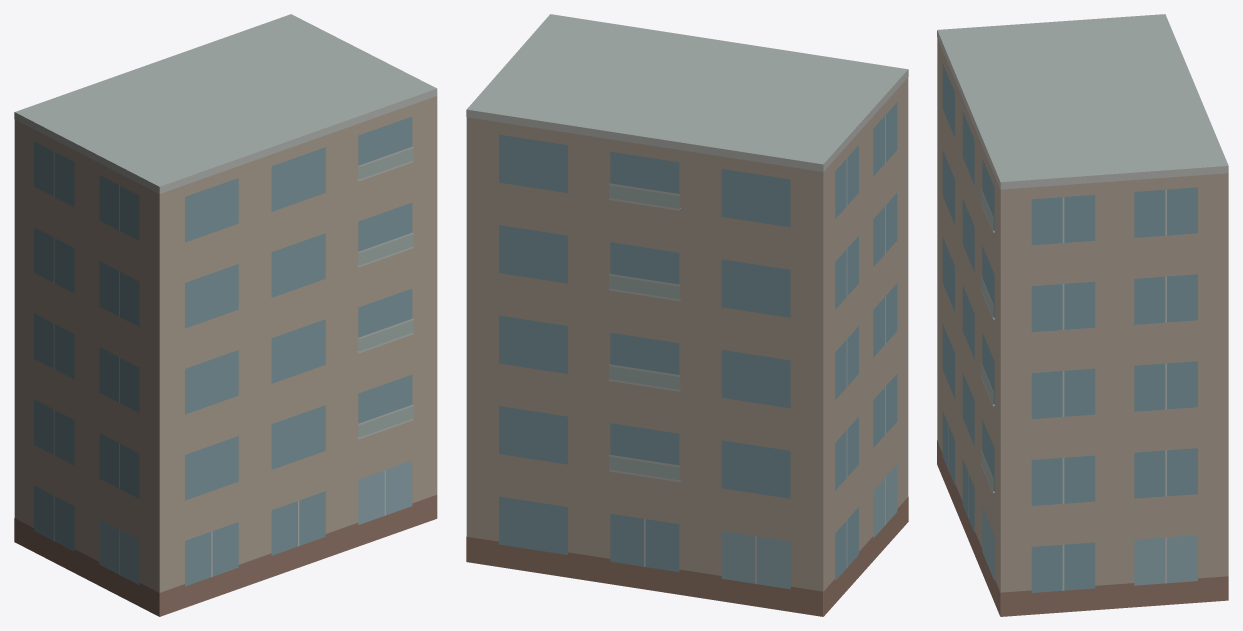
File: survey-upis-32704501.glb
3 renders of one model, left to right at view 1: azimuth 30°, elevation 25°; view 2: azimuth 150°, elevation 25°; view 3: azimuth 270°, elevation 25°, orthographic. The views are drawn at different scales.
Visible parts, largest first — view 1: survey-upis-32704501.tmp; view 2: survey-upis-32704501.tmp; view 3: survey-upis-32704501.tmp.
Part boxes in pixels (x1,y1,x2,y2): survey-upis-32704501.tmp: [14, 14, 437, 616]; survey-upis-32704501.tmp: [466, 14, 908, 616]; survey-upis-32704501.tmp: [937, 14, 1228, 616].
Bounding box in the file's own units: 12.05 × 14.5 × 8.83.
